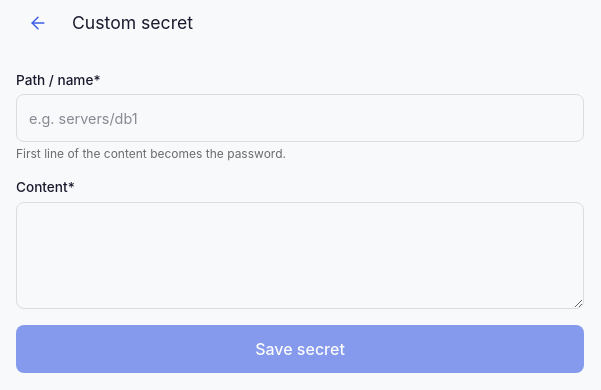
Test: CreateCustomPage › Save is disabled until both name and content are filled
Expected: the button "Save secret" is disabled, [16, 325, 584, 373]
Type "misc/foo" into the field with id "c-name" at (300, 118), box [16, 94, 584, 142]
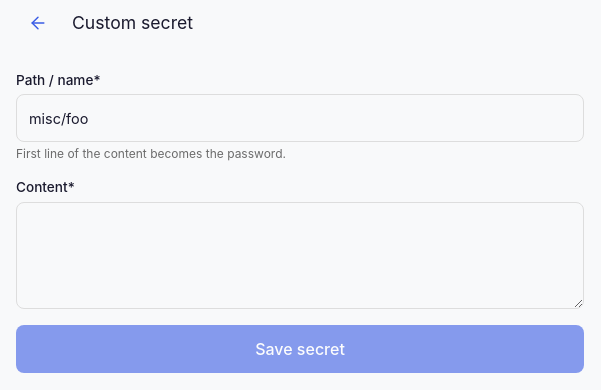
Expected: the button "Save secret" is disabled, [16, 325, 584, 373]
Type "hunter2" into the text box with id "c-content" at (300, 256), box [16, 202, 584, 309]
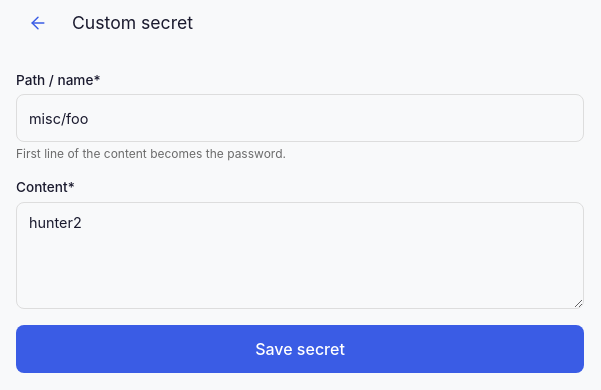
Now the button "Save secret" is enabled, box [16, 325, 584, 373]
